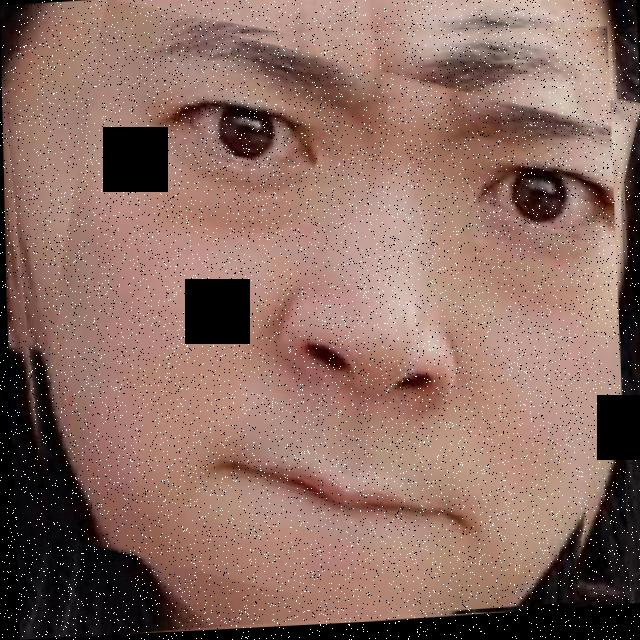anger: (0, 1, 626, 640)
